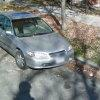Car: (3, 5, 78, 77)
